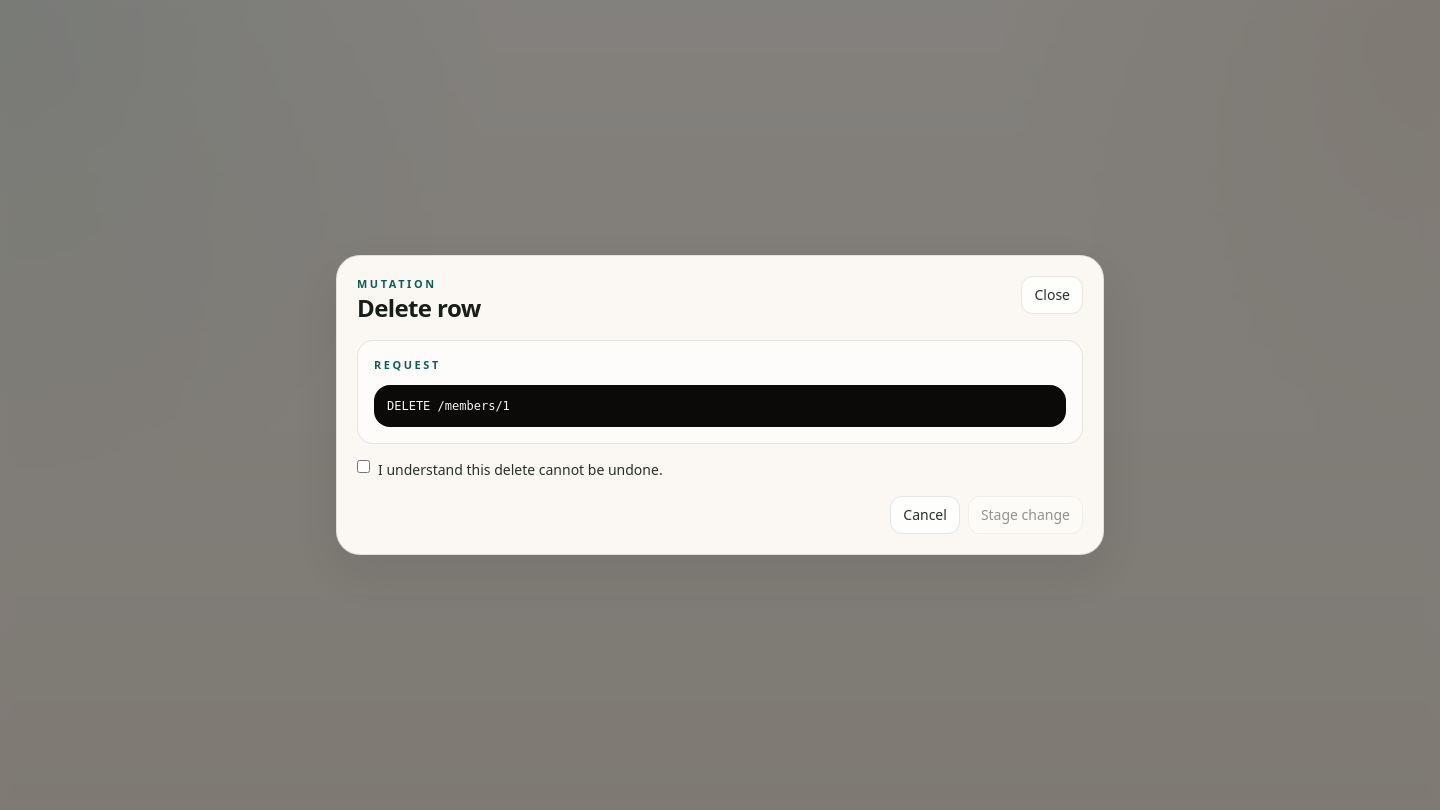
Test: MutationDialog › requires confirmation for deletes and surfaces submit failures
Expected: the button "Stage change" is disabled, [968,496,1083,534]
Click the checkbox labelled "I understand this delete cannot be undone." at (364, 467), box [357,460,370,473]
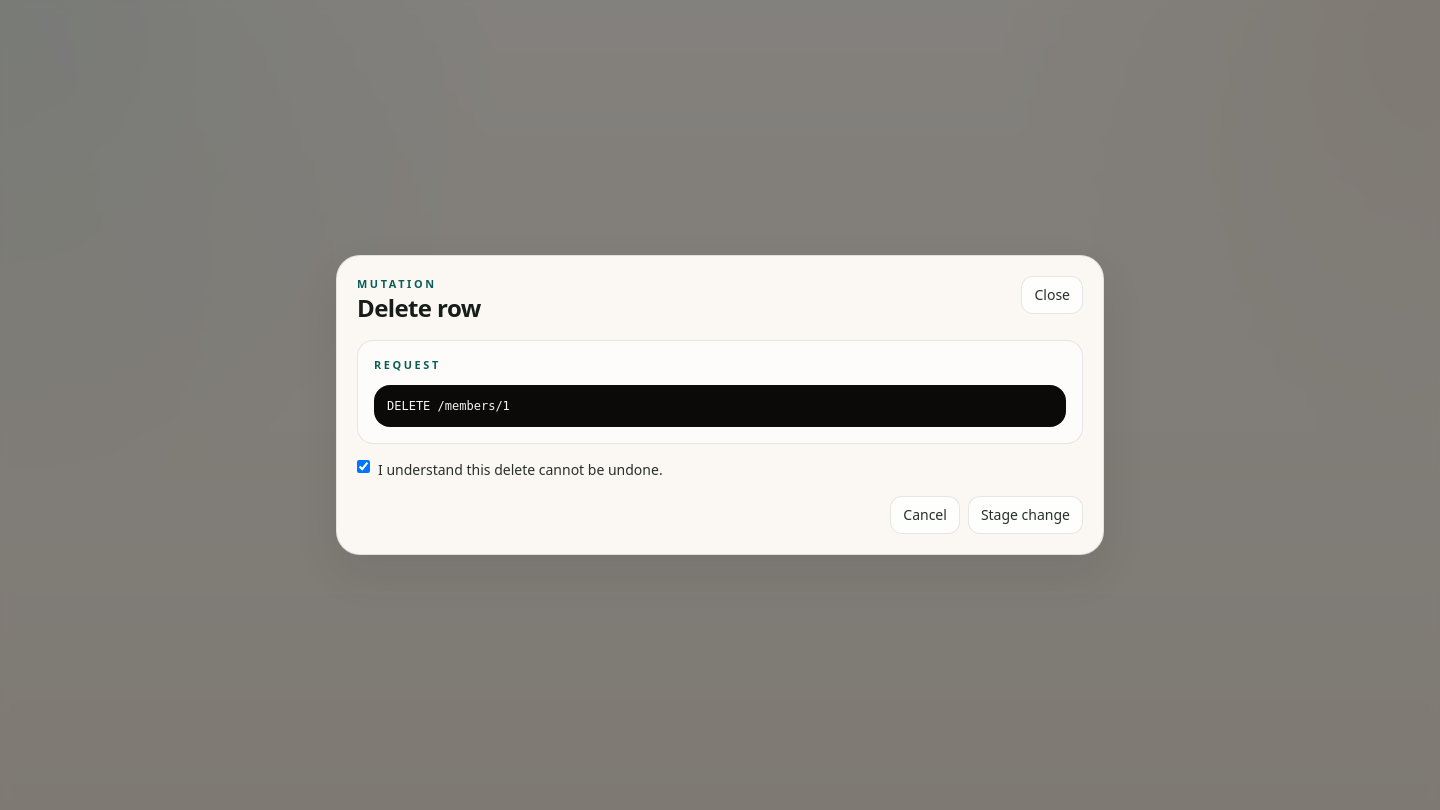
Click the button "Stage change" at (1025, 515), box [968,496,1083,534]
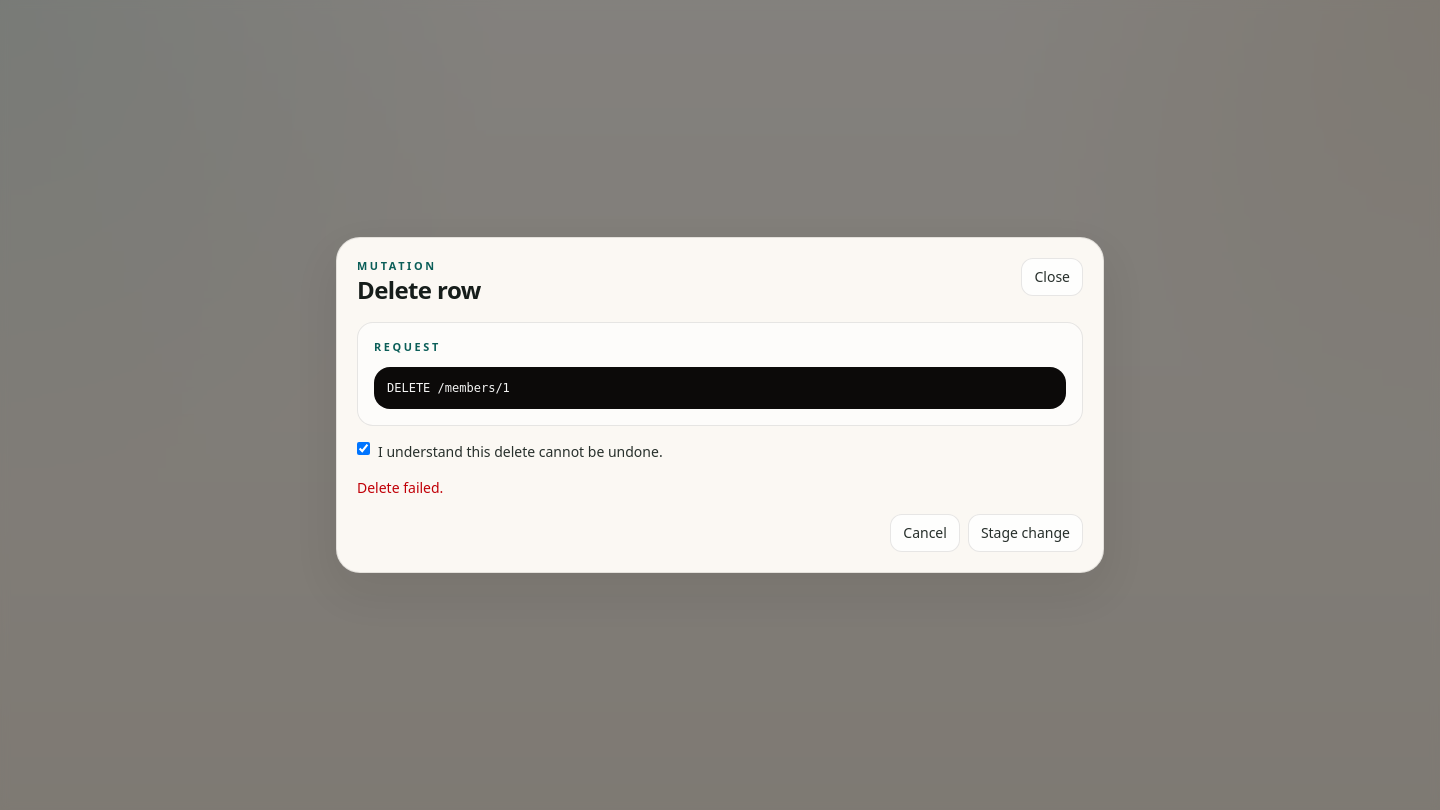
Result: the text "Delete failed." is shown at [357,478,443,497]
